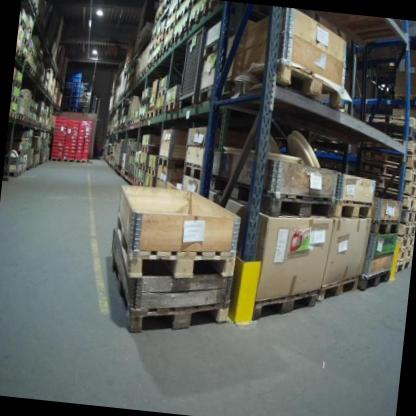pallet: (103, 246, 231, 343), (109, 209, 239, 290), (221, 49, 350, 112), (207, 172, 337, 225), (249, 281, 316, 330), (315, 267, 360, 309), (360, 162, 416, 186), (364, 148, 416, 173), (357, 262, 393, 294), (333, 197, 373, 223), (370, 177, 416, 198), (367, 216, 402, 240), (376, 191, 416, 208), (188, 1, 207, 30), (181, 160, 203, 182), (156, 154, 185, 170), (175, 0, 190, 24), (173, 20, 187, 43), (395, 256, 411, 275), (163, 98, 180, 115), (398, 237, 413, 252), (163, 19, 175, 37), (141, 144, 159, 155), (161, 37, 172, 55), (405, 141, 416, 159), (397, 246, 410, 261), (400, 223, 413, 238), (403, 209, 416, 224), (207, 0, 224, 11), (167, 3, 178, 20), (152, 34, 163, 50), (151, 49, 161, 65), (160, 0, 170, 15), (153, 105, 164, 118), (156, 86, 167, 99), (155, 26, 164, 41), (146, 165, 157, 177), (17, 18, 26, 32), (145, 108, 155, 120), (153, 8, 161, 23), (21, 37, 30, 50), (408, 129, 416, 143), (137, 162, 147, 173), (25, 24, 33, 36), (140, 96, 148, 107), (62, 157, 74, 164), (10, 95, 19, 104), (74, 158, 87, 164), (50, 157, 62, 163), (13, 79, 21, 88), (136, 178, 144, 187), (140, 67, 147, 77), (8, 111, 17, 118), (138, 113, 145, 122), (16, 114, 24, 121), (15, 45, 20, 56), (22, 148, 28, 156), (29, 67, 34, 76), (22, 138, 29, 144), (23, 116, 28, 122), (127, 114, 131, 121), (27, 118, 32, 123)
stillage: (173, 22, 208, 113)
